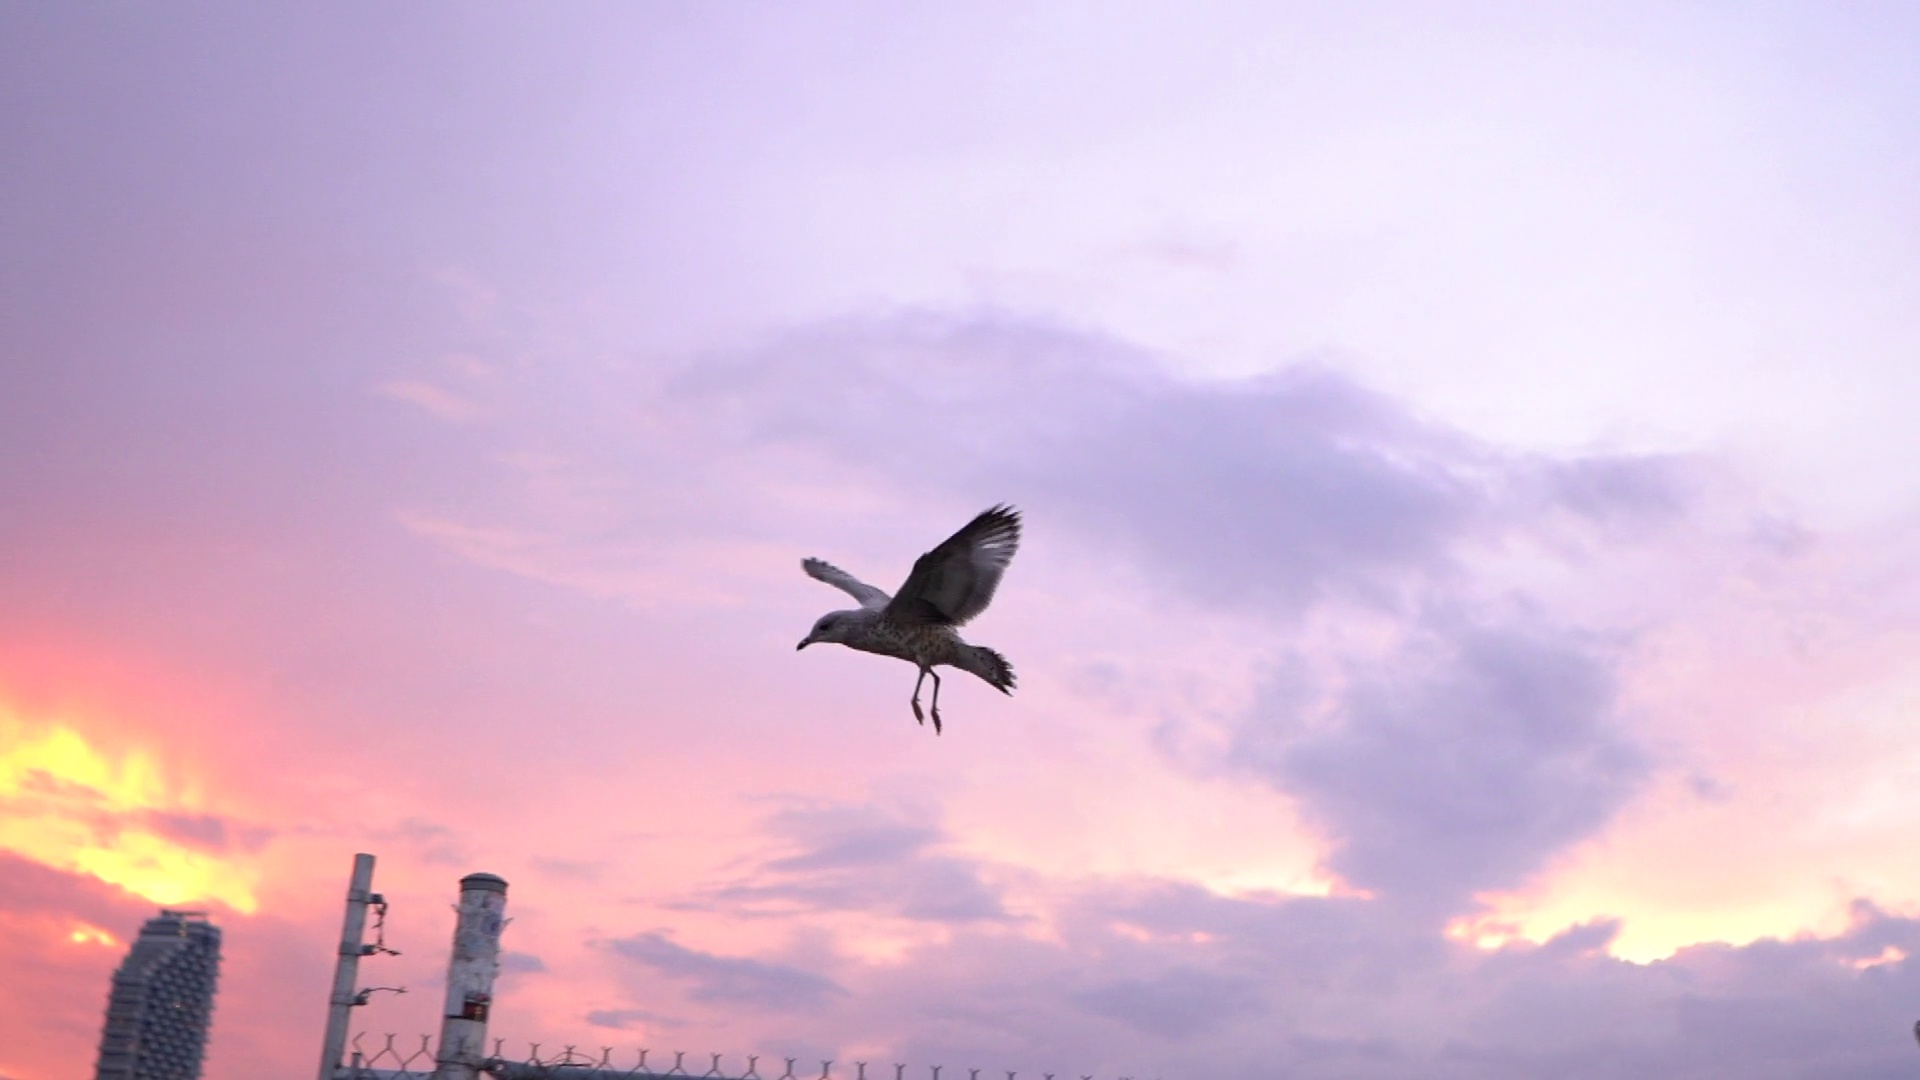bird: (800, 512, 1018, 732)
